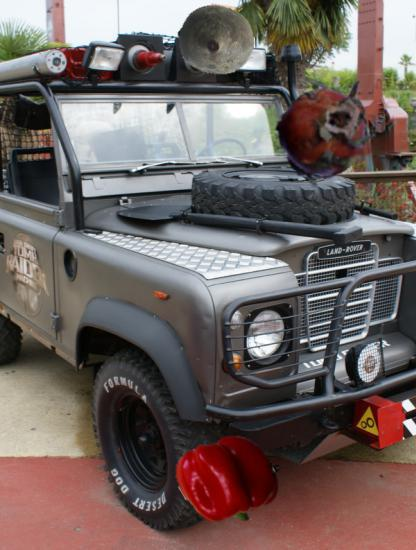Beetroot: (176, 1, 255, 80)
Pepper: (181, 430, 279, 528)
Pitahaya: (267, 71, 385, 189)
